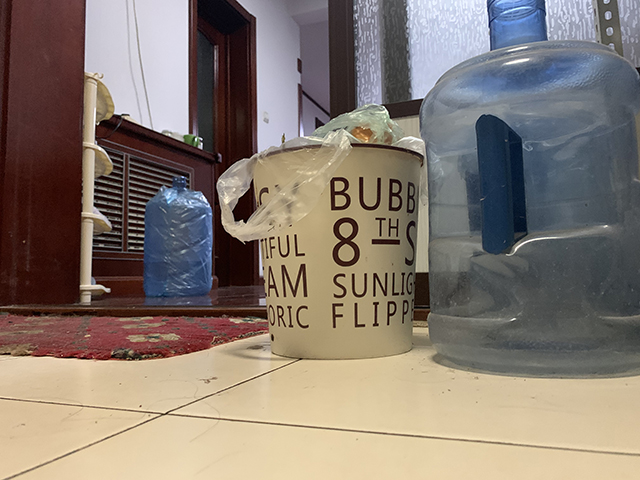cabinet: (90, 113, 224, 296)
carpet: (1, 311, 269, 361)
trashcan: (244, 142, 426, 361)
